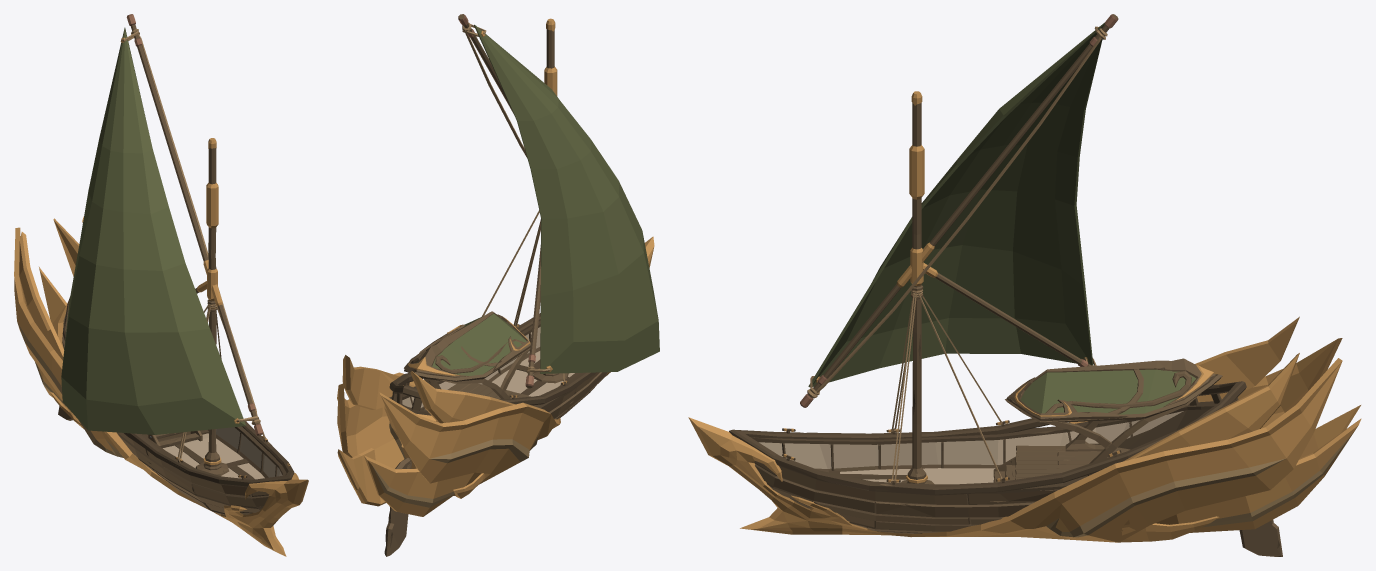
The model's file is SM_Veh_Boat_01.fbx.
3 views of the same model, side by side, from view 1: azimuth 30°, elevation 25°; view 2: azimuth 150°, elevation 25°; view 3: azimuth 270°, elevation 25° (orthographic). The views are drawn at different scales.
Parts seen in each view (by area): view 1: SM_Veh_Boat_Mast_01, SM_Veh_Boat_01; view 2: SM_Veh_Boat_Mast_01, SM_Veh_Boat_01, SM_Veh_Boat_Canopy_01, SM_Veh_Boat_Rudder_01; view 3: SM_Veh_Boat_01, SM_Veh_Boat_Mast_01, SM_Veh_Boat_Canopy_01, SM_Veh_Boat_Rudder_01.
Part boxes in pixels (x1,y1,x2,y2): SM_Veh_Boat_Mast_01: [61, 14, 263, 435]; SM_Veh_Boat_01: [14, 216, 308, 556]; SM_Veh_Boat_Mast_01: [458, 14, 659, 388]; SM_Veh_Boat_01: [337, 210, 654, 516]; SM_Veh_Boat_Canopy_01: [404, 311, 530, 410]; SM_Veh_Boat_Rudder_01: [384, 457, 411, 556]; SM_Veh_Boat_01: [688, 285, 1361, 542]; SM_Veh_Boat_Mast_01: [800, 14, 1118, 407]; SM_Veh_Boat_Canopy_01: [1005, 358, 1222, 478]; SM_Veh_Boat_Rudder_01: [1239, 520, 1282, 556].
Size of the model in its own units: 735 by 1814 by 2042.
